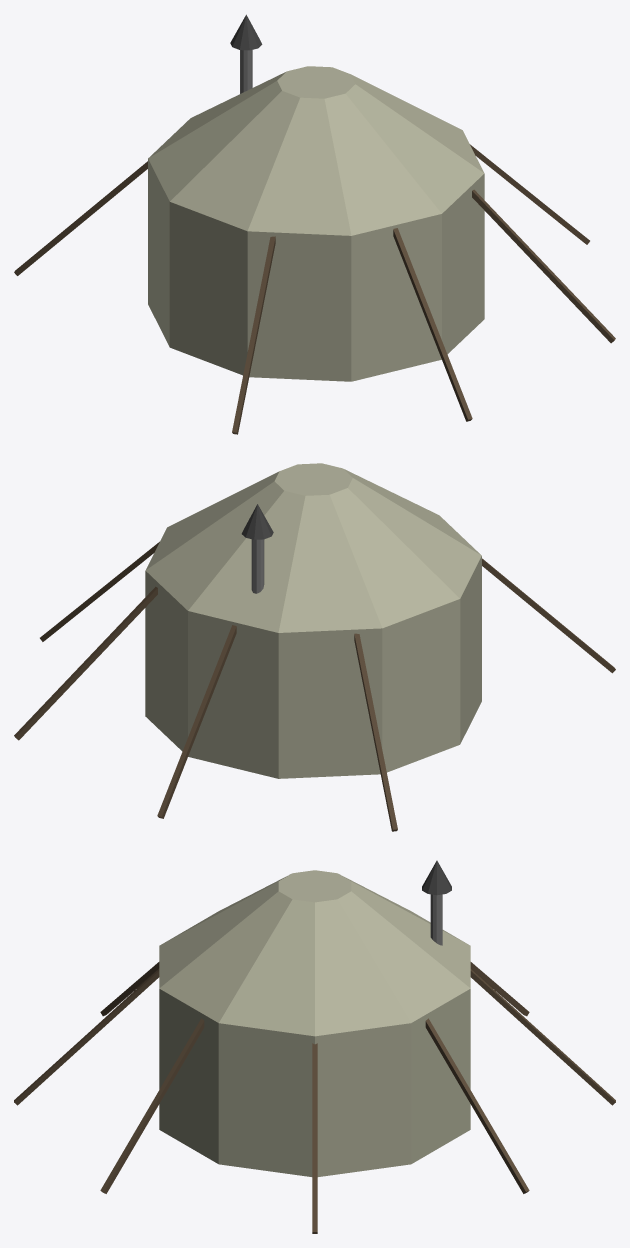
File: Yurt 1.fbx
3 renders of one model, top to bottom at view 1: azimuth 30°, elevation 25°; view 2: azimuth 150°, elevation 25°; view 3: azimuth 270°, elevation 25°, orthographic. The views are drawn at different scales.
Parts seen in each view (by area): view 1: polySurface18; view 2: polySurface18; view 3: polySurface18.
Boxes of the visible parts, bbox=[...] form: polySurface18: bbox=[14, 14, 615, 434]; polySurface18: bbox=[14, 463, 615, 831]; polySurface18: bbox=[14, 860, 615, 1233].
Bounding box in the file's own units: 13.08 × 6.78 × 15.11.
